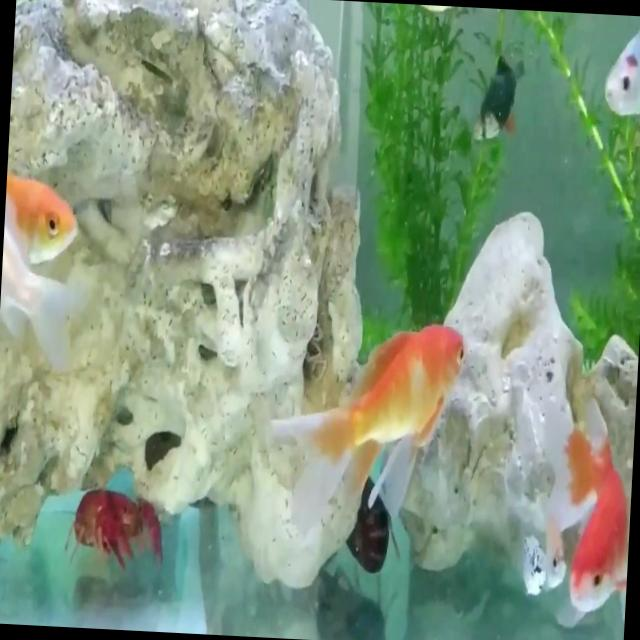GoldFish: (260, 298, 476, 548), (550, 413, 636, 630)
